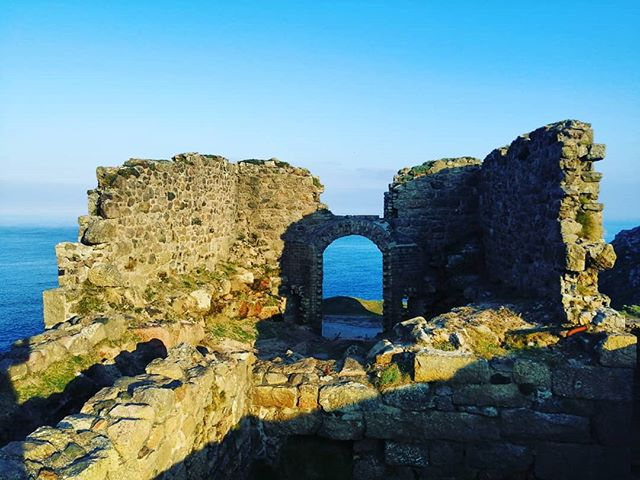building: (48, 144, 640, 480)
sky: (1, 1, 634, 147)
